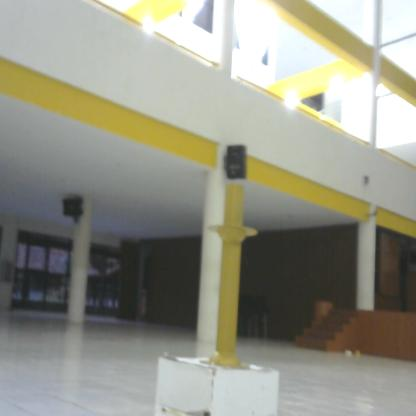pole: (198, 183, 258, 373)
